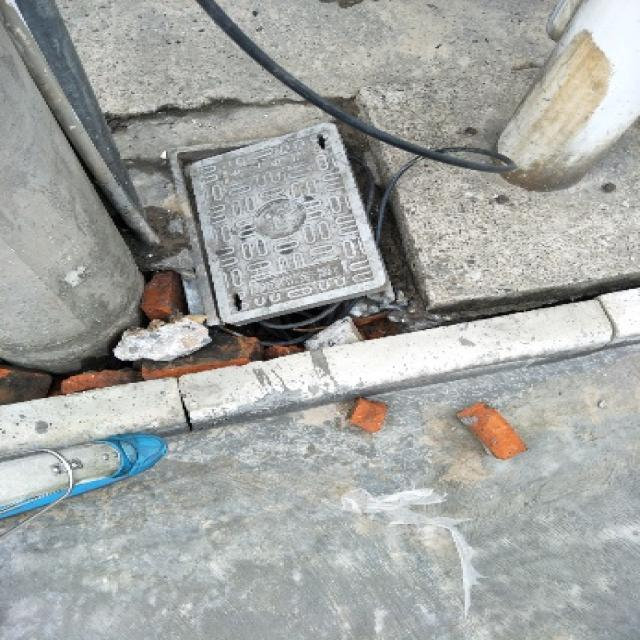Faulty: (146, 129, 416, 337)
